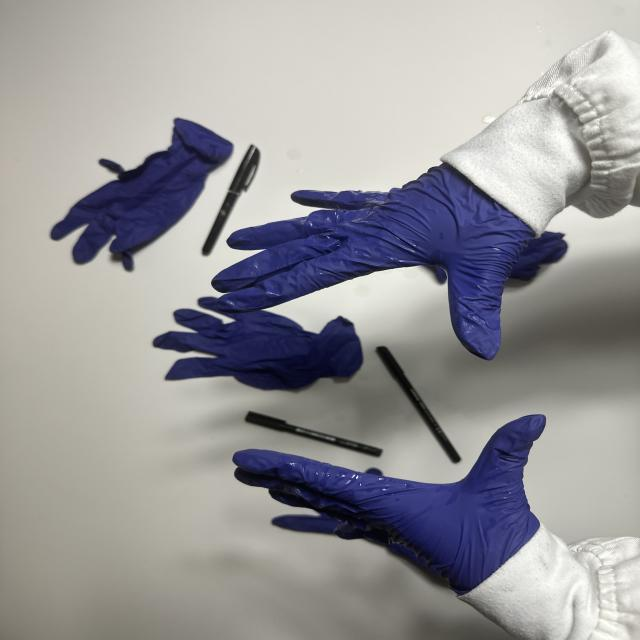gloves_contaminated: (212, 164, 534, 360), (234, 415, 546, 594)
